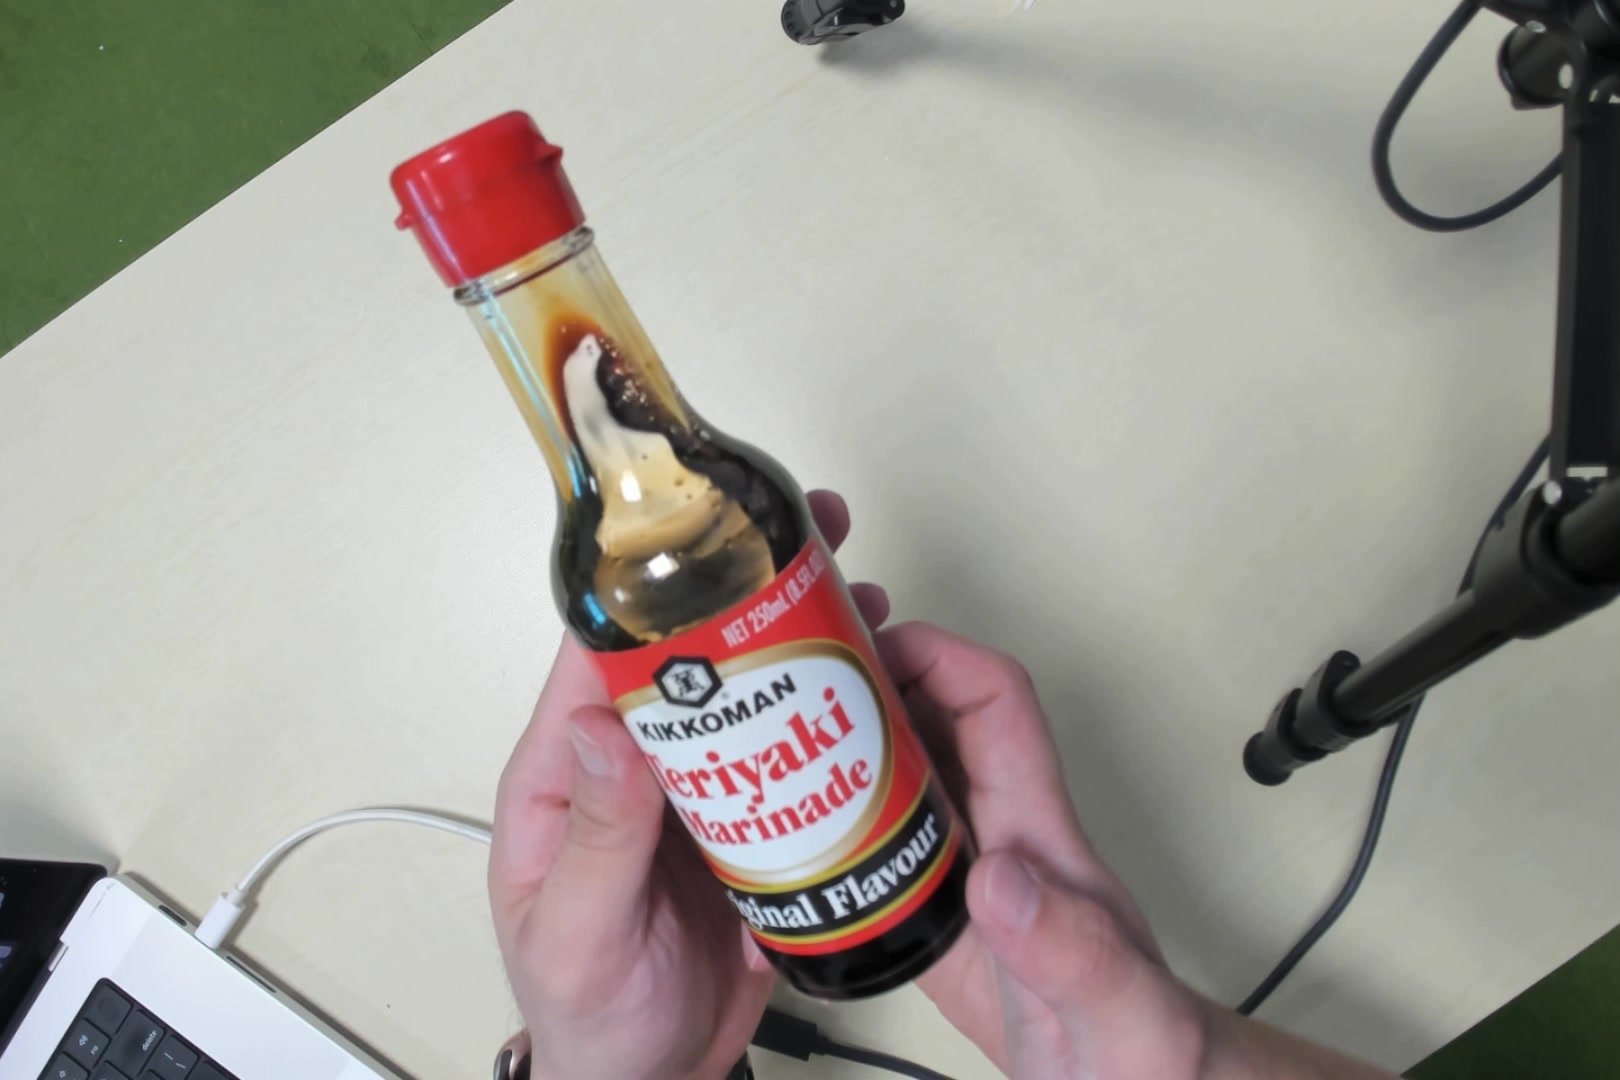OtherSauceDressingSoupbasePaste_200-299g_NonHalal_NonHealthy: (468, 158, 959, 981)
